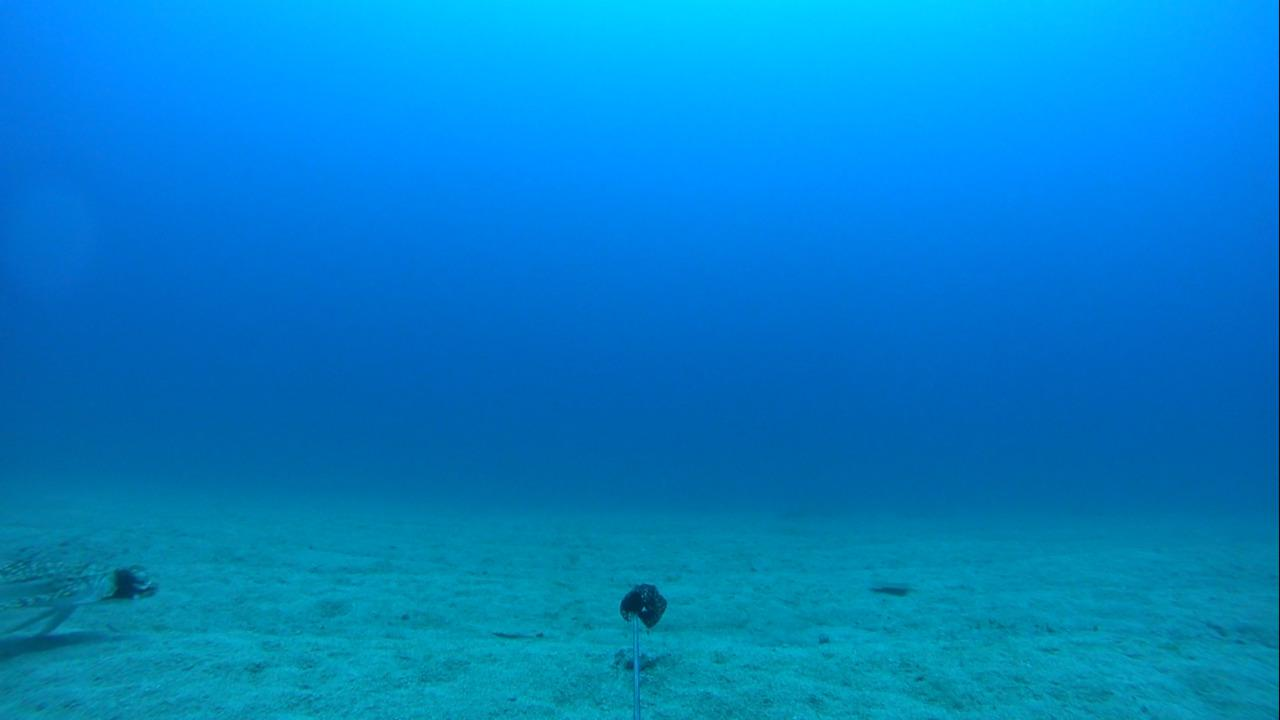bothus: (492, 614, 560, 639), (869, 571, 916, 590)
dactylopterus: (4, 545, 157, 651)
